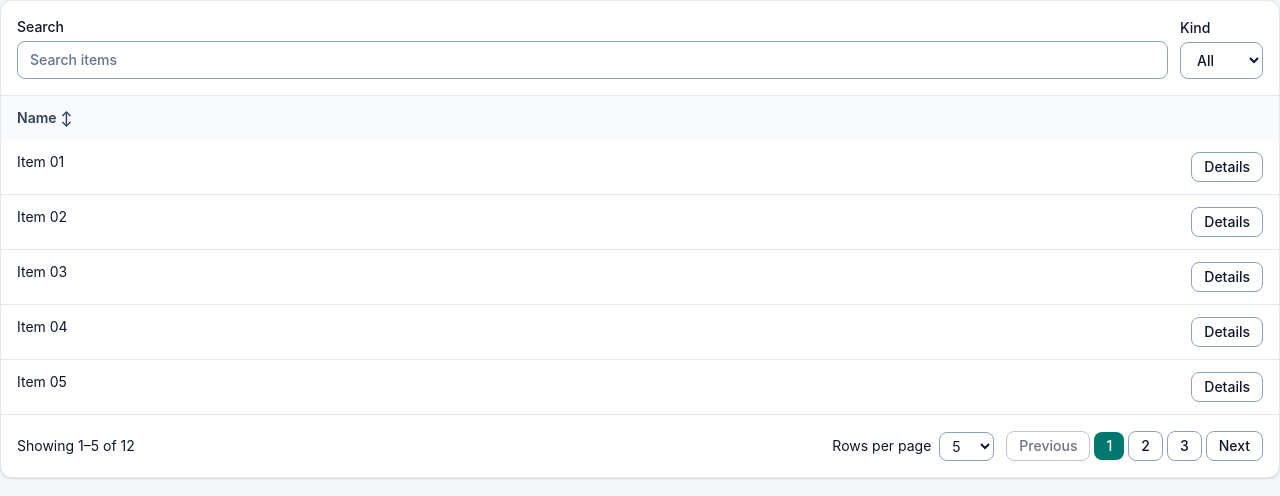
Test: DataTable › searches, filters, clears and explains an empty result
In the search field labelled "Search": (592, 60) [17,41,1168,79], type "item 07"
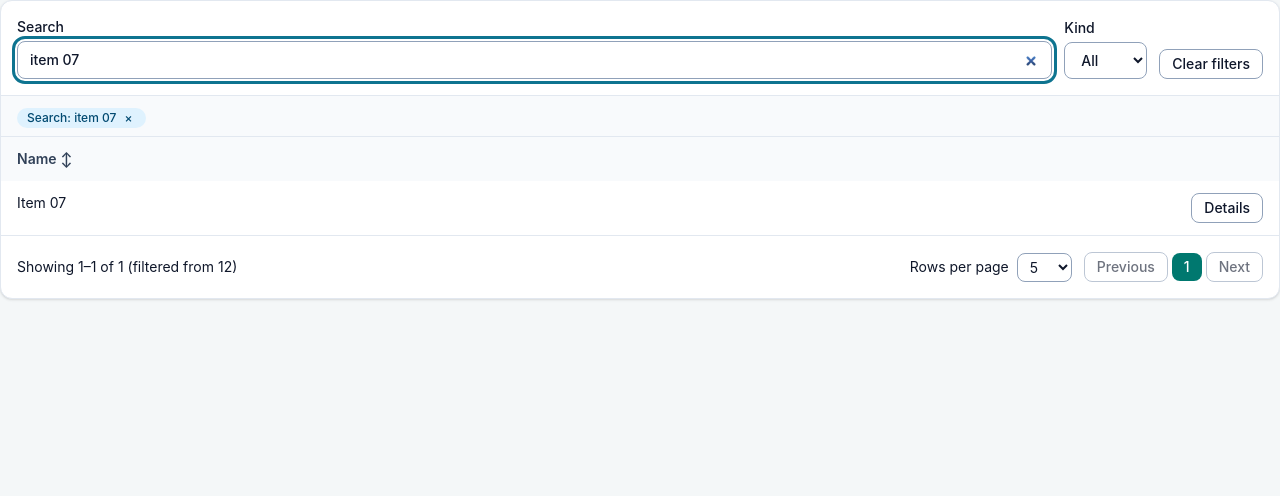
Check: the text "Showing 1–1 of 1 (filtered from 12)" is shown, box [17,257,237,277]
Clear the search field labelled "Search": (535, 60) [17,41,1052,79]
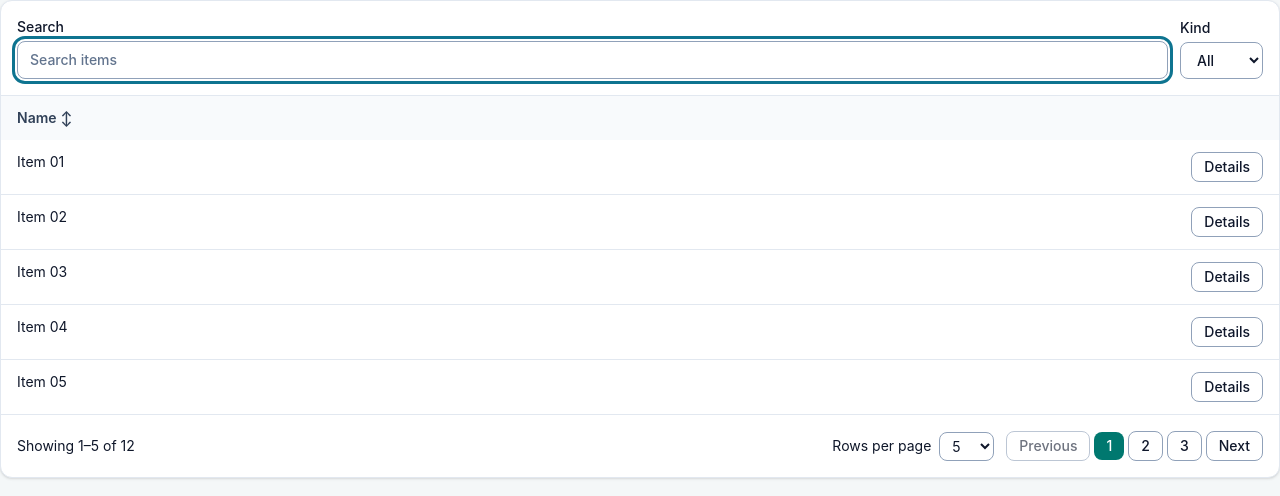
Select "alpha" in the dropdown labelled "Kind": (1222, 60) [1180,42,1263,79]
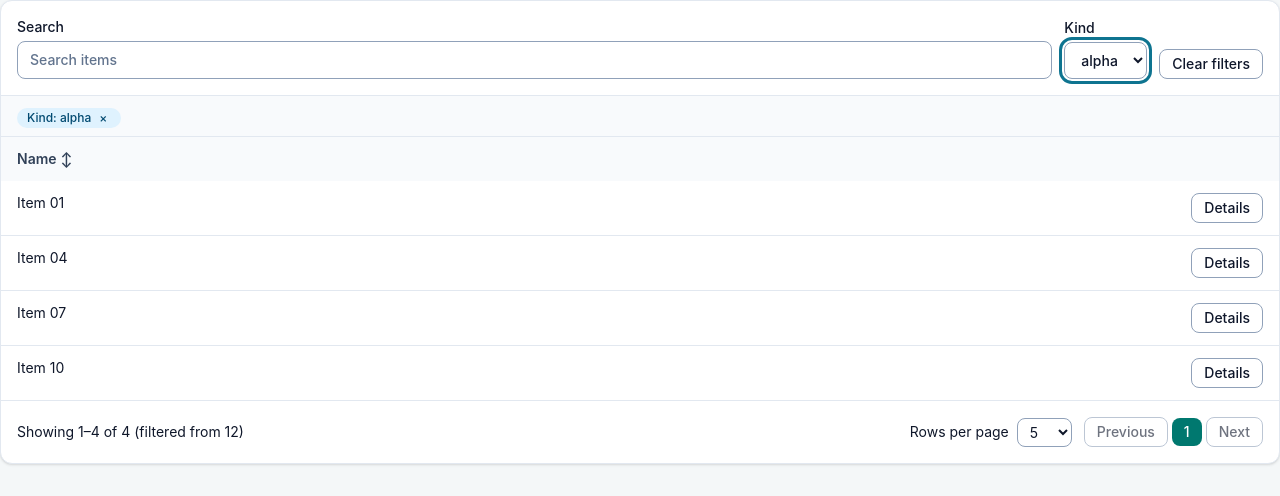
Check: the text "Showing 1–4 of 4 (filtered from 12)" is shown, box [17,422,244,442]
In the search field labelled "Search": (535, 60) [17,41,1052,79], type "zzz"
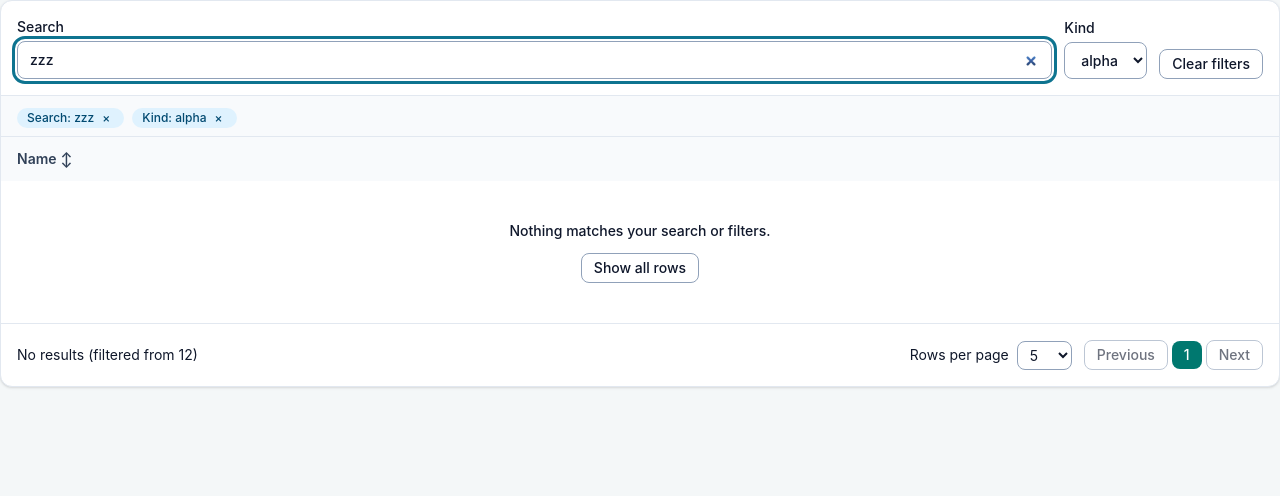
Check: the text "Nothing matches your search or filters." is shown, box [510,222,770,239]
Click the button "Clear filters": (1211, 64) [1159,49,1263,79]
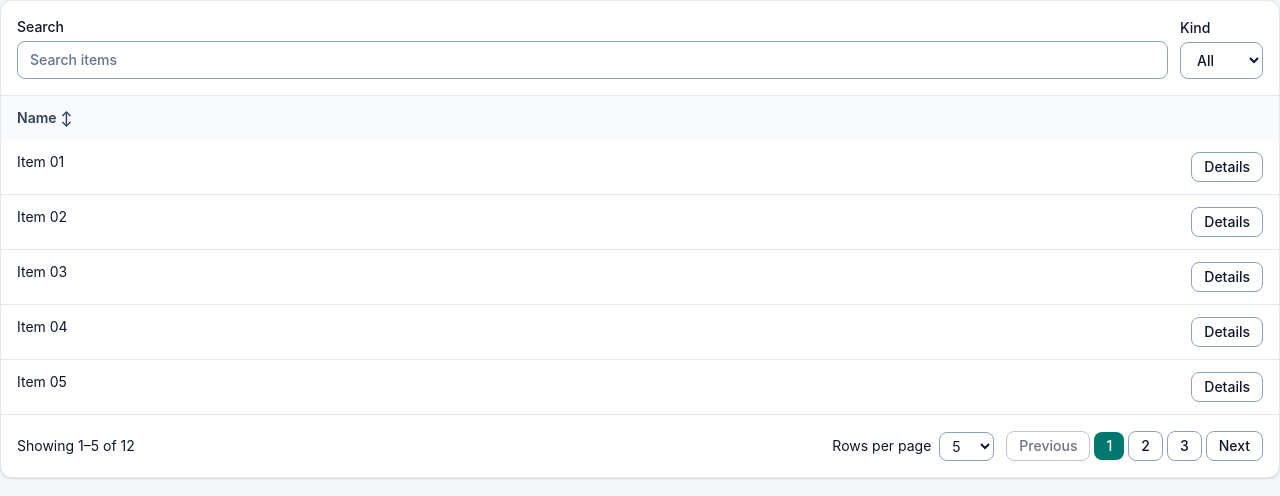
Check: the text "Showing 1–5 of 12" is shown, box [17,436,135,456]
